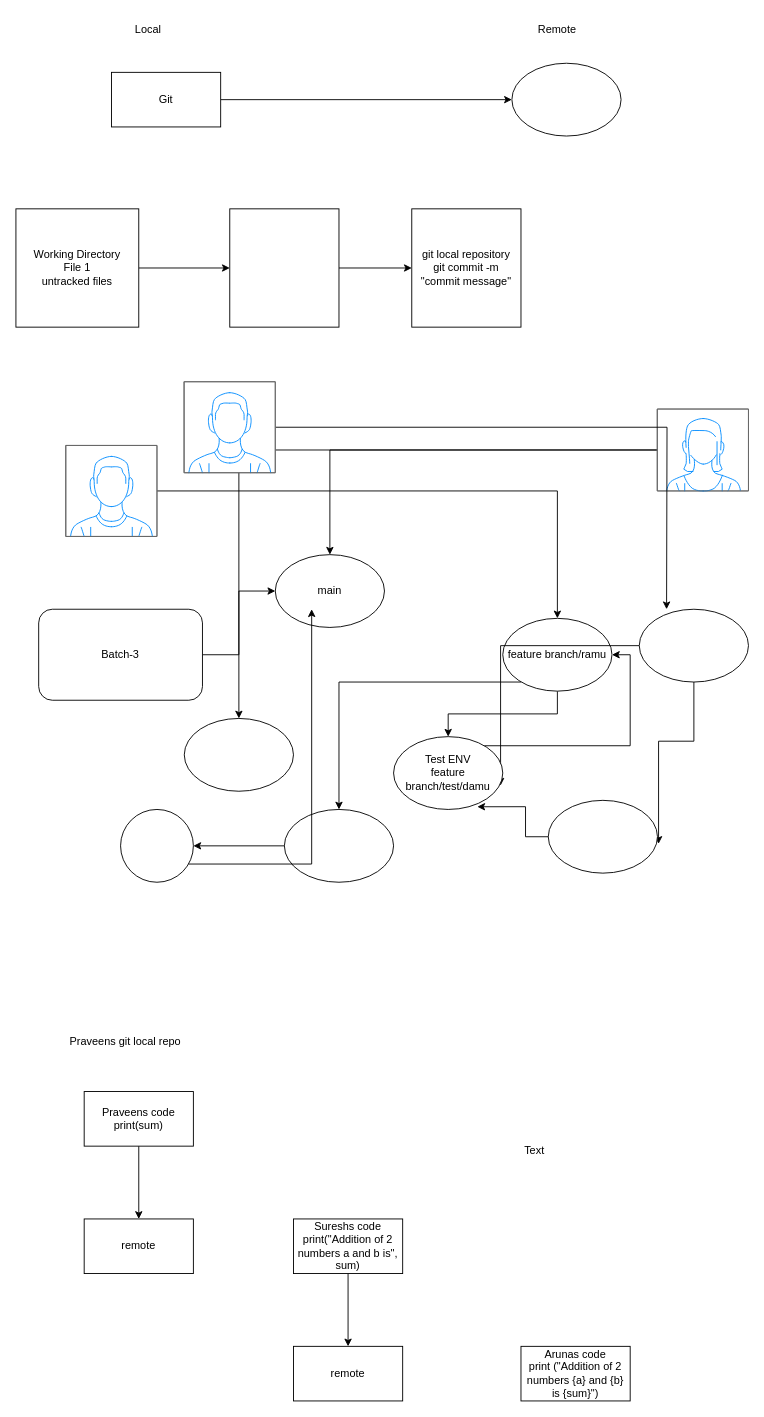
This 764x1417 diagram has some shape labels left out. Here are the shapes that lost their labels. From the top down, the box of each, then its label:
(511, 62, 621, 136): Git Hub
(229, 208, 339, 327): Stagging Area Initialize Git tracked files git add <filename> git add .
(638, 608, 748, 682): feature branch/sham
(183, 718, 293, 791): Pre-Producation Envi
(120, 809, 193, 882): UAT
(283, 809, 394, 882): dhruva
